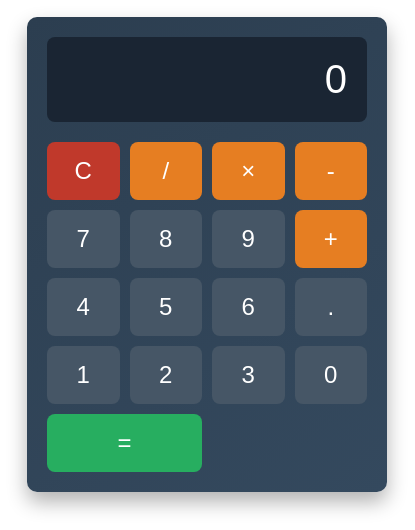
Test: Calculator Tests › should input multiple numbers correctly
Click the button "1". click: (84, 375)
box: [47,346,120,404]
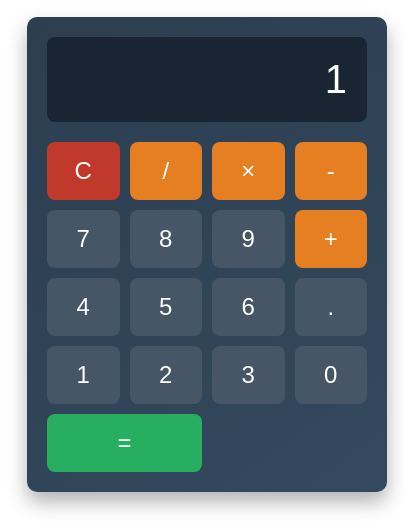
Click the button "2". click: (167, 375)
box: [130,346,203,404]
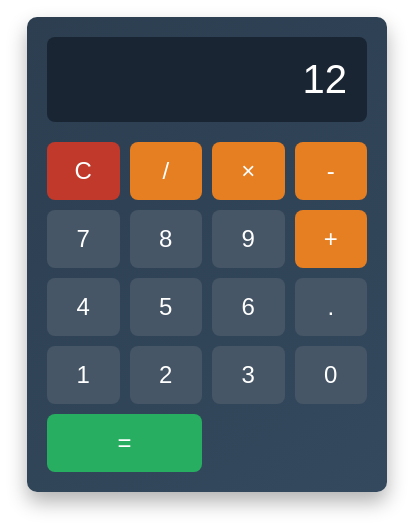
Click the button "3". click: (249, 375)
box: [212,346,285,404]
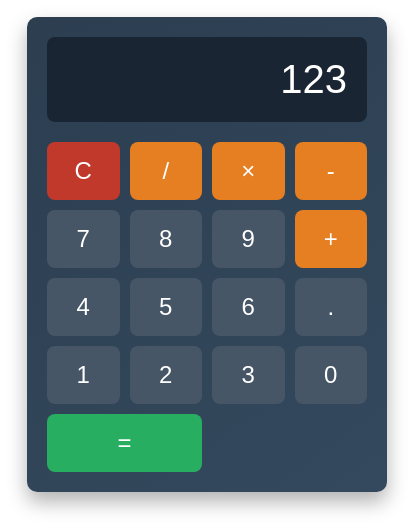
Expected: the text with class "display" reads "123", [47,37,367,122]
